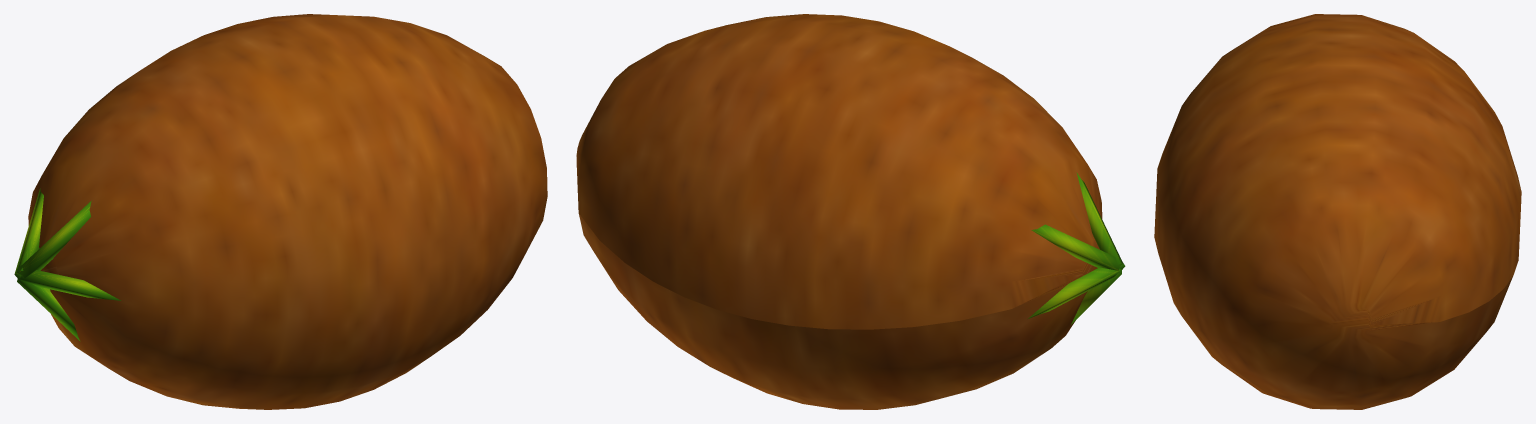
Rendered from NP_Kiwi_Harvest.fbx.
3 renders of one model, left to right at view 1: azimuth 30°, elevation 25°; view 2: azimuth 150°, elevation 25°; view 3: azimuth 270°, elevation 25°, orthographic. The views are drawn at different scales.
Visible parts, largest first — view 1: NP_Kiwi_Harvest; view 2: NP_Kiwi_Harvest; view 3: NP_Kiwi_Harvest.
Boxes of the visible parts, box(x1,y1,x2,y2) form: NP_Kiwi_Harvest: box(14, 14, 547, 409); NP_Kiwi_Harvest: box(576, 14, 1125, 409); NP_Kiwi_Harvest: box(1154, 14, 1521, 409).
Size of the model in its own units: 20.14 by 12.91 by 12.9.
